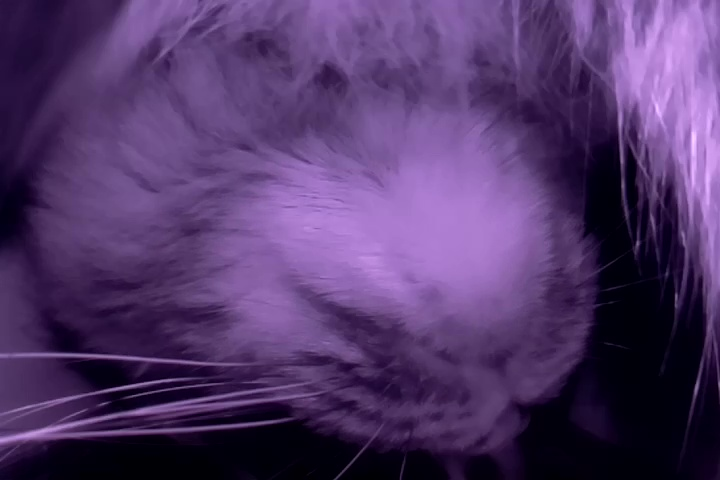Snout: (373, 295, 568, 458)
